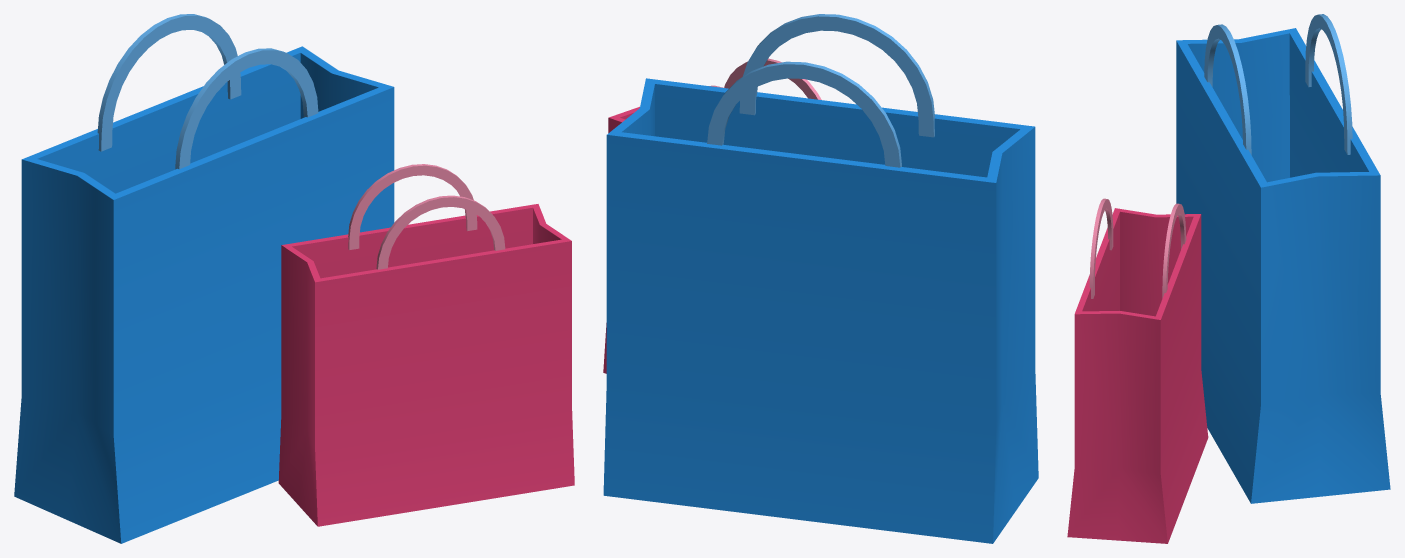
Rendered from shopping_bags.gltf.
The picture shows the model from 3 angles, left to right: view 1: azimuth 30°, elevation 25°; view 2: azimuth 150°, elevation 25°; view 3: azimuth 270°, elevation 25°; orthographic projection. The views are drawn at different scales.
Parts seen in each view (by area): view 1: Cube.817; view 2: Cube.817; view 3: Cube.817.
Boxes of the visible parts, x1,y1,x2,y2 form: Cube.817: (14,14,574,543); Cube.817: (603,14,1038,543); Cube.817: (1067,14,1390,543).
Bounding box in the file's own units: 2.43 × 2.22 × 1.65.
1 material, 1 textured.
